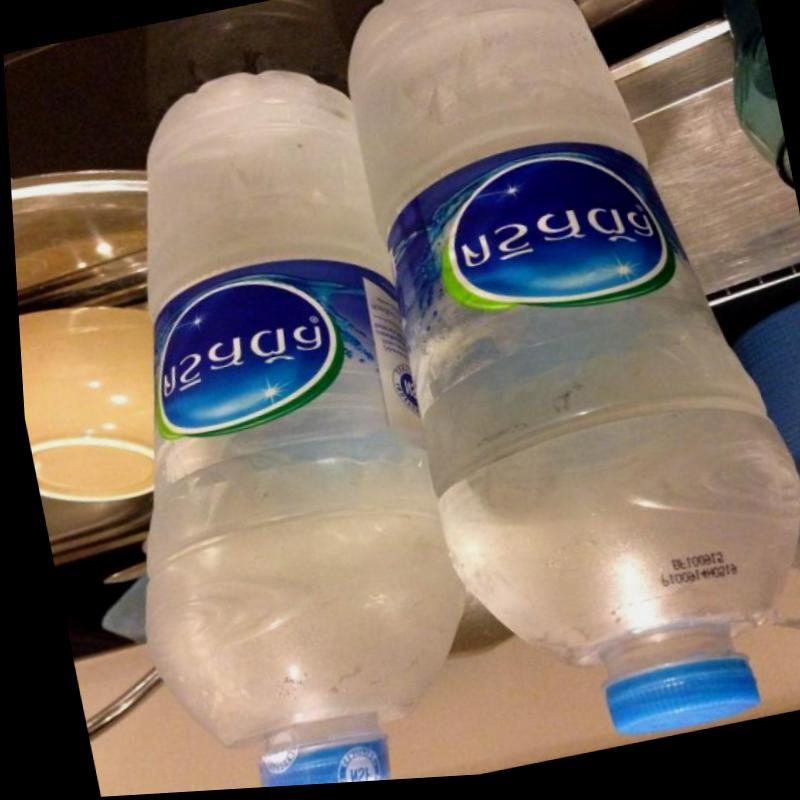botella: (322, 0, 800, 776), (41, 43, 487, 798)
